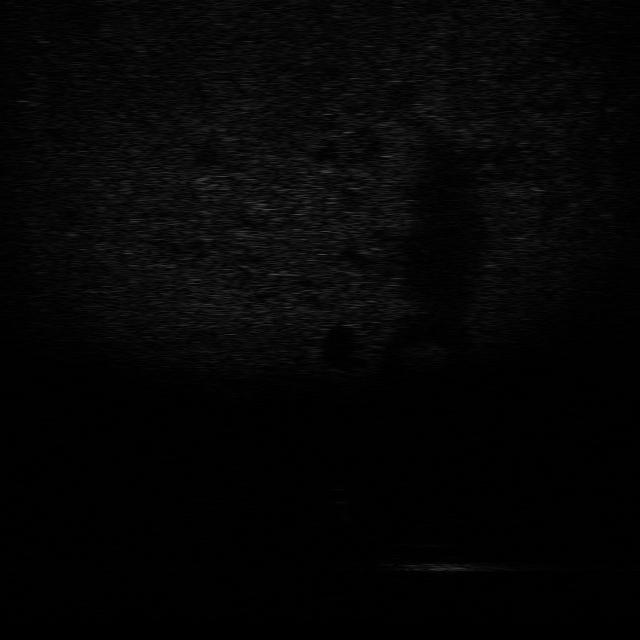ball: (322, 483, 362, 507)
metal bucket: (376, 554, 502, 579)
tyre: (395, 526, 461, 552)
